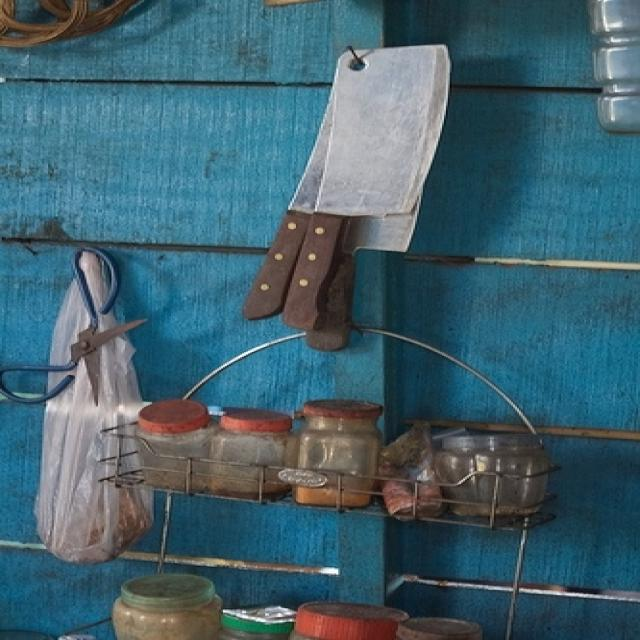Metal: (265, 27, 466, 338), (22, 275, 138, 402)
Plastics: (143, 386, 540, 521), (104, 593, 458, 640)
